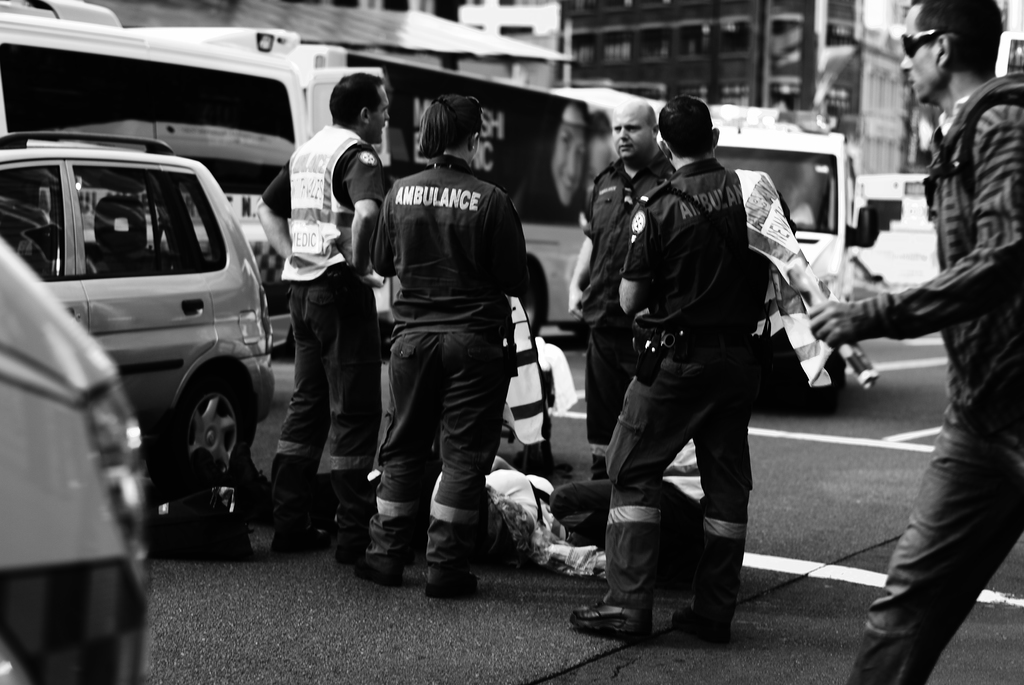Car: (0, 129, 279, 488)
